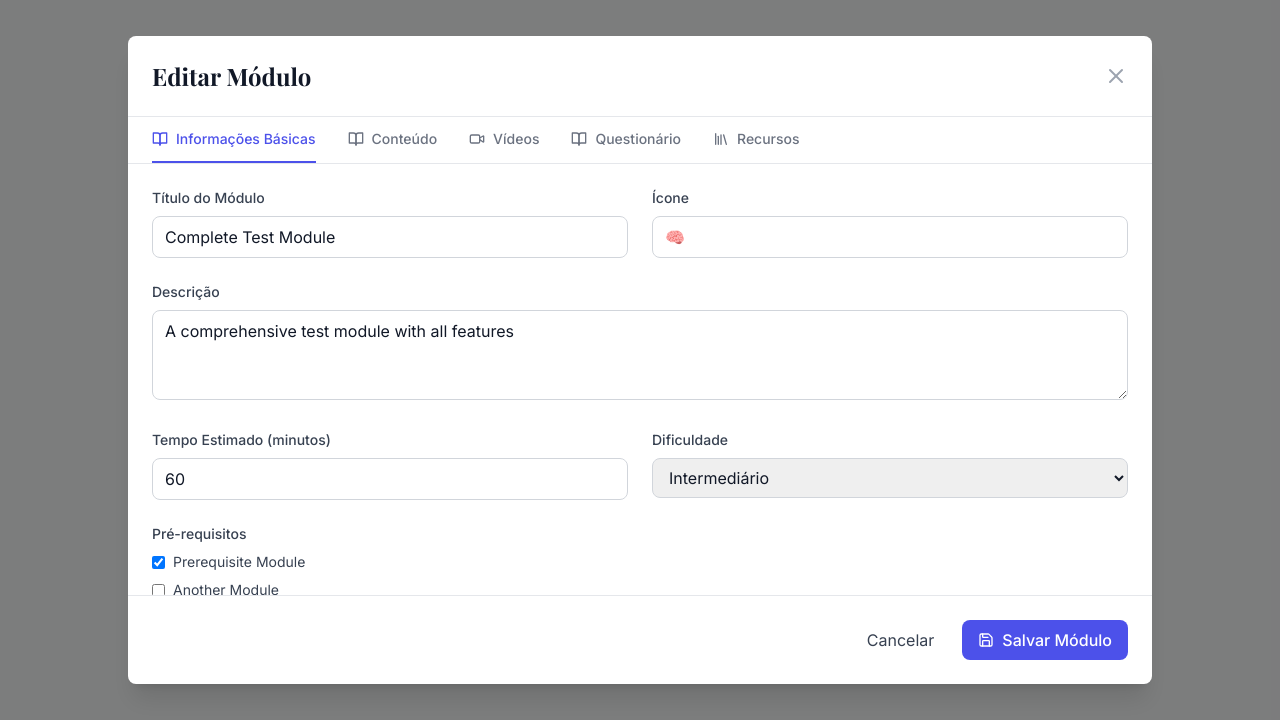
Test: ModuleEditor - Enhanced Coverage › Component Initialization and Rendering › handles module with null content properties
// Navigate to videos tab
Click the button "Vídeos". click: (504, 140)
box: [469,117,539,163]
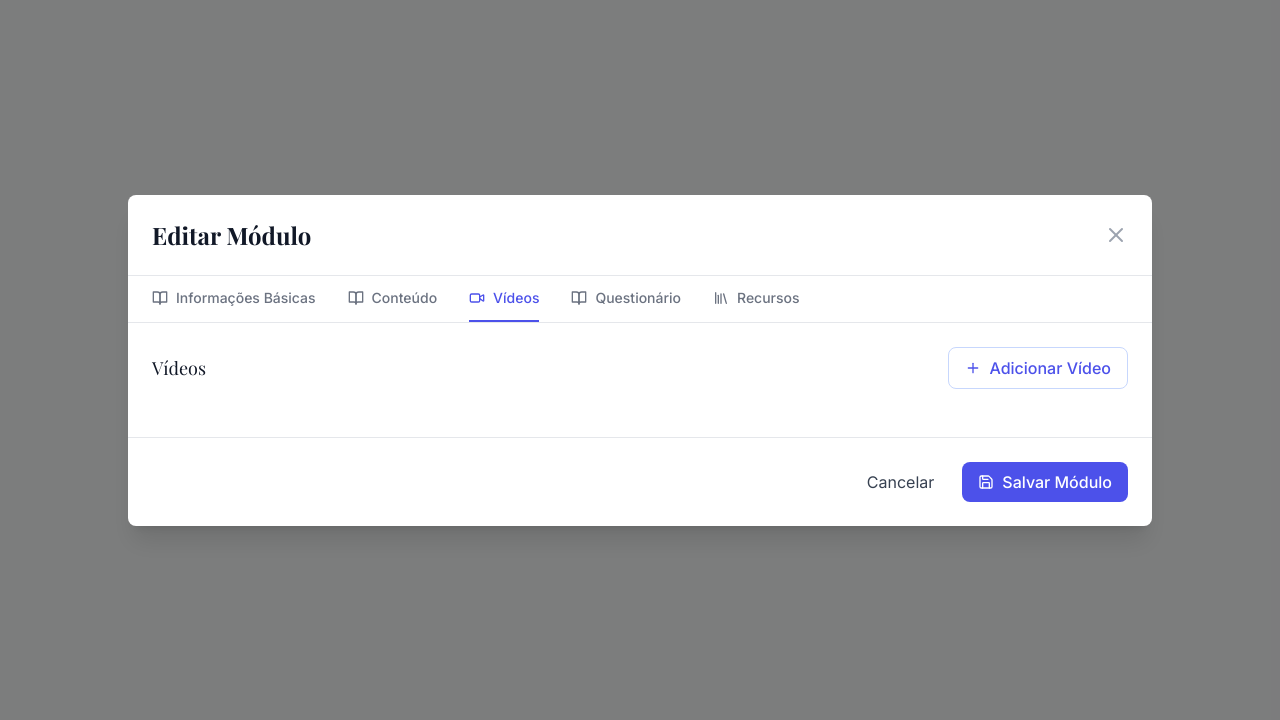
Now the text "Adicionar Vídeo" is shown, box [989,356,1111,380]
